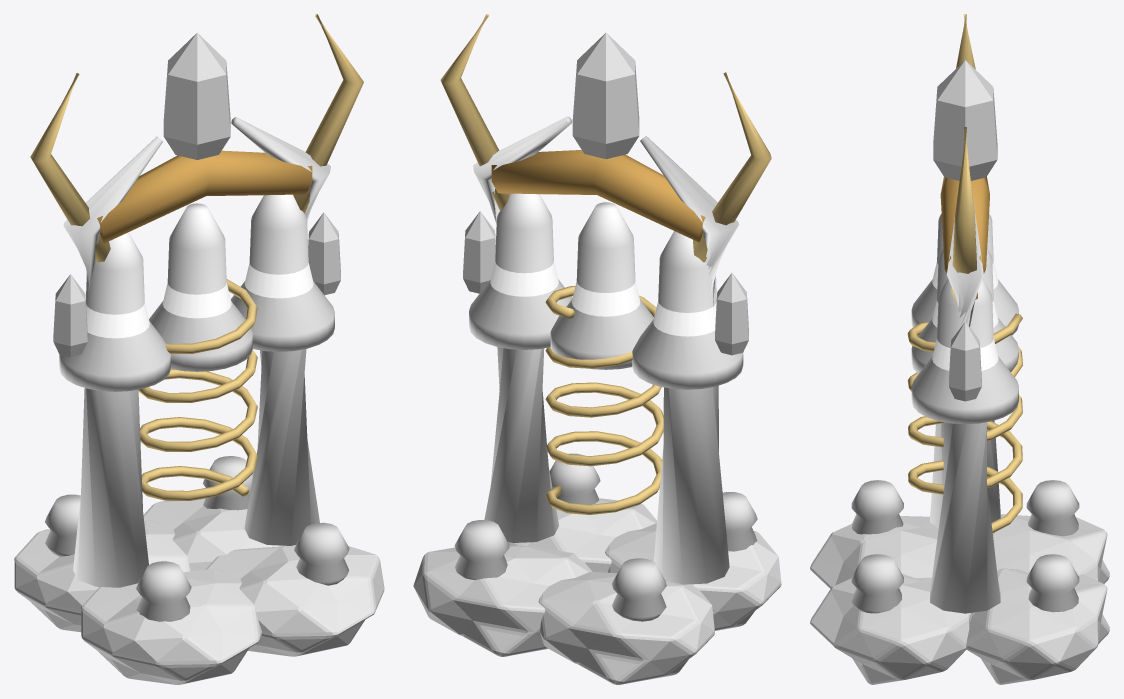
The model's file is storm-4.fbx.
3 views of the same model, side by side, from view 1: azimuth 30°, elevation 25°; view 2: azimuth 150°, elevation 25°; view 3: azimuth 270°, elevation 25° (orthographic). The views are drawn at different scales.
Parts seen in each view (by area): view 1: Base_Stone, Turret_Bark, Turret_Metal, CastBell, CastBell.002, CastBell.001, Base_Organic, SkyCrystal, Turret_Glow; view 2: Base_Stone, Turret_Bark, Turret_Metal, CastBell, CastBell.002, CastBell.001, Base_Organic, SkyCrystal, Turret_Glow; view 3: Base_Stone, Turret_Bark, Base_Organic, Turret_Metal, CastBell.002, SkyCrystal, CastBell.001, CastBell, Turret_Glow.
Boxes of the visible parts, <box> form: Base_Stone: <box>14,498,384,684</box>; Turret_Bark: <box>63,117,330,587</box>; Turret_Metal: <box>30,14,363,500</box>; CastBell: <box>59,232,170,391</box>; CastBell.002: <box>231,194,334,351</box>; CastBell.001: <box>149,203,252,371</box>; Base_Organic: <box>45,456,349,621</box>; SkyCrystal: <box>163,33,230,159</box>; Turret_Glow: <box>53,212,340,357</box>; Base_Stone: <box>413,498,781,684</box>; Turret_Bark: <box>473,116,738,584</box>; Turret_Metal: <box>440,14,771,514</box>; CastBell: <box>632,231,743,389</box>; CastBell.002: <box>469,193,572,349</box>; CastBell.001: <box>550,202,653,369</box>; Base_Organic: <box>454,453,757,621</box>; SkyCrystal: <box>572,32,639,159</box>; Turret_Glow: <box>463,211,748,355</box>; Base_Stone: <box>810,514,1109,684</box>; Turret_Bark: <box>930,178,1000,613</box>; Base_Organic: <box>851,480,1079,613</box>; Turret_Metal: <box>907,14,1022,532</box>; CastBell.002: <box>911,278,1018,424</box>; SkyCrystal: <box>933,60,997,180</box>; CastBell.001: <box>911,248,1018,373</box>; CastBell: <box>911,213,1018,335</box>; Turret_Glow: <box>949,321,981,401</box>.
Size of the model in its own units: 88.81 by 155 by 72.59.
